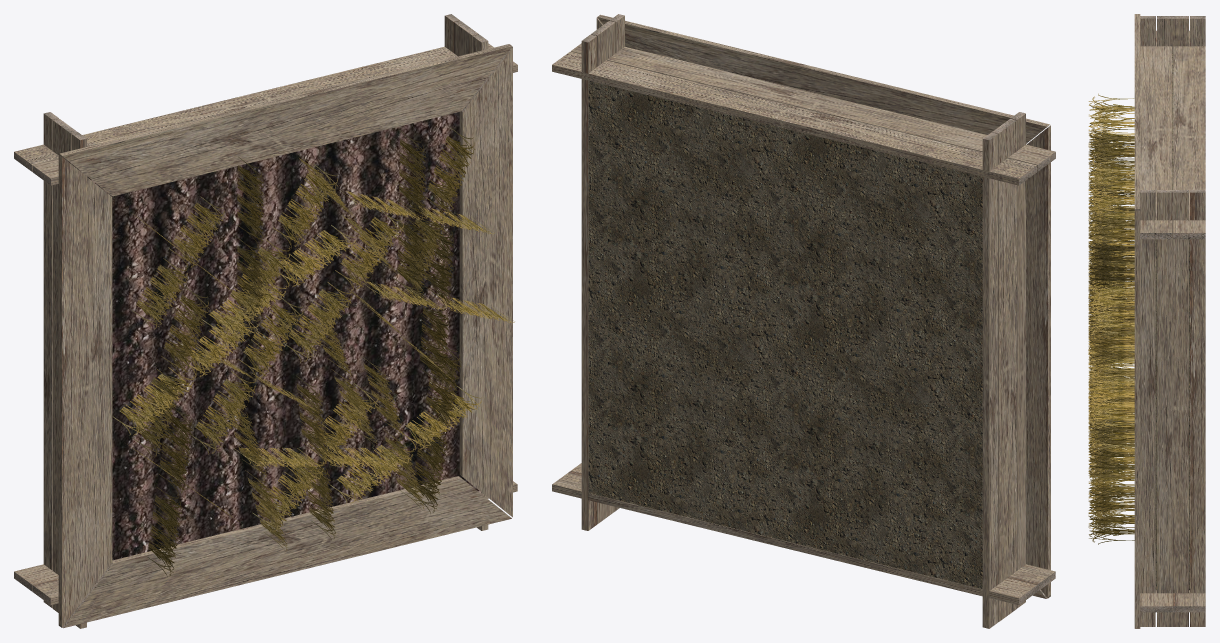
File: 2 sprite wilted.dae
The picture shows the model from 3 angles, left to right: view 1: azimuth 30°, elevation 25°; view 2: azimuth 150°, elevation 25°; view 3: azimuth 270°, elevation 25°; orthographic projection. The views are drawn at different scales.
Parts seen in each view (by area): view 1: dirt, top_2_Cube_022, top_1_Cube_016, top_4_Cube_023, top_3_Cube_021, plank_01_Cube_02, plank_03_Cube_004, Cube_027_Cube_028, Cube_007_Cube_031, Cube_020_Cube_036, Cube_013_Cube_008, Cube_003_Cube_029 (+20 smaller); view 2: dirt, plank_01_Cube_02, top_1_Cube_016, top_2_Cube_022, plank_04_Cube_006, plank_02_Cube_03, plank_03_Cube_004, plank_06_Cube_009, plank_08_Cube_011, plank_05_Cube_007, plank_09_Cube_013, plank_07_Cube_010; view 3: plank_09_Cube_013, plank_08_Cube_011, plank_10_Cube_014, plank_02_Cube_03, plank_01_Cube_02, Cube_033_Cube_017, top_4_Cube_023, Cube_011_Cube_020, Cube_010_Cube_032, Cube_019_Cube_035, Cube_031_Cube_024, Cube_015_Cube_033 (+20 smaller).
Boxes of the visible parts, box(x1,y1,x2,y2) form: dirt: box(87, 112, 480, 560); top_2_Cube_022: box(58, 154, 112, 627); top_1_Cube_016: box(60, 44, 512, 196); top_4_Cube_023: box(459, 46, 512, 517); top_3_Cube_021: box(62, 476, 511, 628); plank_01_Cube_02: box(14, 43, 493, 171); plank_03_Cube_004: box(43, 112, 58, 608); Cube_027_Cube_028: box(191, 296, 303, 454); Cube_007_Cube_031: box(283, 210, 403, 362); Cube_020_Cube_036: box(229, 164, 338, 321); Cube_013_Cube_008: box(252, 383, 378, 532); Cube_003_Cube_029: box(113, 312, 258, 435); dirt: box(588, 80, 982, 588); plank_01_Cube_02: box(552, 51, 1036, 185); top_1_Cube_016: box(597, 14, 1049, 143); top_2_Cube_022: box(1026, 125, 1050, 598); plank_04_Cube_006: box(992, 119, 1016, 622); plank_02_Cube_03: box(571, 43, 1055, 171); plank_03_Cube_004: box(982, 132, 997, 628); plank_06_Cube_009: box(552, 471, 1037, 604); plank_08_Cube_011: box(581, 34, 596, 530); plank_05_Cube_007: box(1010, 112, 1025, 608); plank_09_Cube_013: box(591, 21, 615, 524); plank_07_Cube_010: box(571, 463, 1055, 591); plank_09_Cube_013: box(1157, 190, 1188, 626); plank_08_Cube_011: box(1190, 190, 1205, 626); plank_10_Cube_014: box(1140, 190, 1155, 626); plank_02_Cube_03: box(1140, 30, 1172, 239); plank_01_Cube_02: box(1173, 30, 1205, 239); Cube_033_Cube_017: box(1088, 419, 1134, 544); top_4_Cube_023: box(1134, 210, 1140, 628); Cube_011_Cube_020: box(1088, 303, 1134, 434); Cube_010_Cube_032: box(1088, 155, 1134, 305); Cube_019_Cube_035: box(1088, 223, 1134, 336); Cube_031_Cube_024: box(1088, 320, 1134, 428); Cube_015_Cube_033: box(1088, 207, 1134, 344).
Size of the model in its own units: 3.68 by 3.68 by 0.9313.
4 materials, 4 textured.
